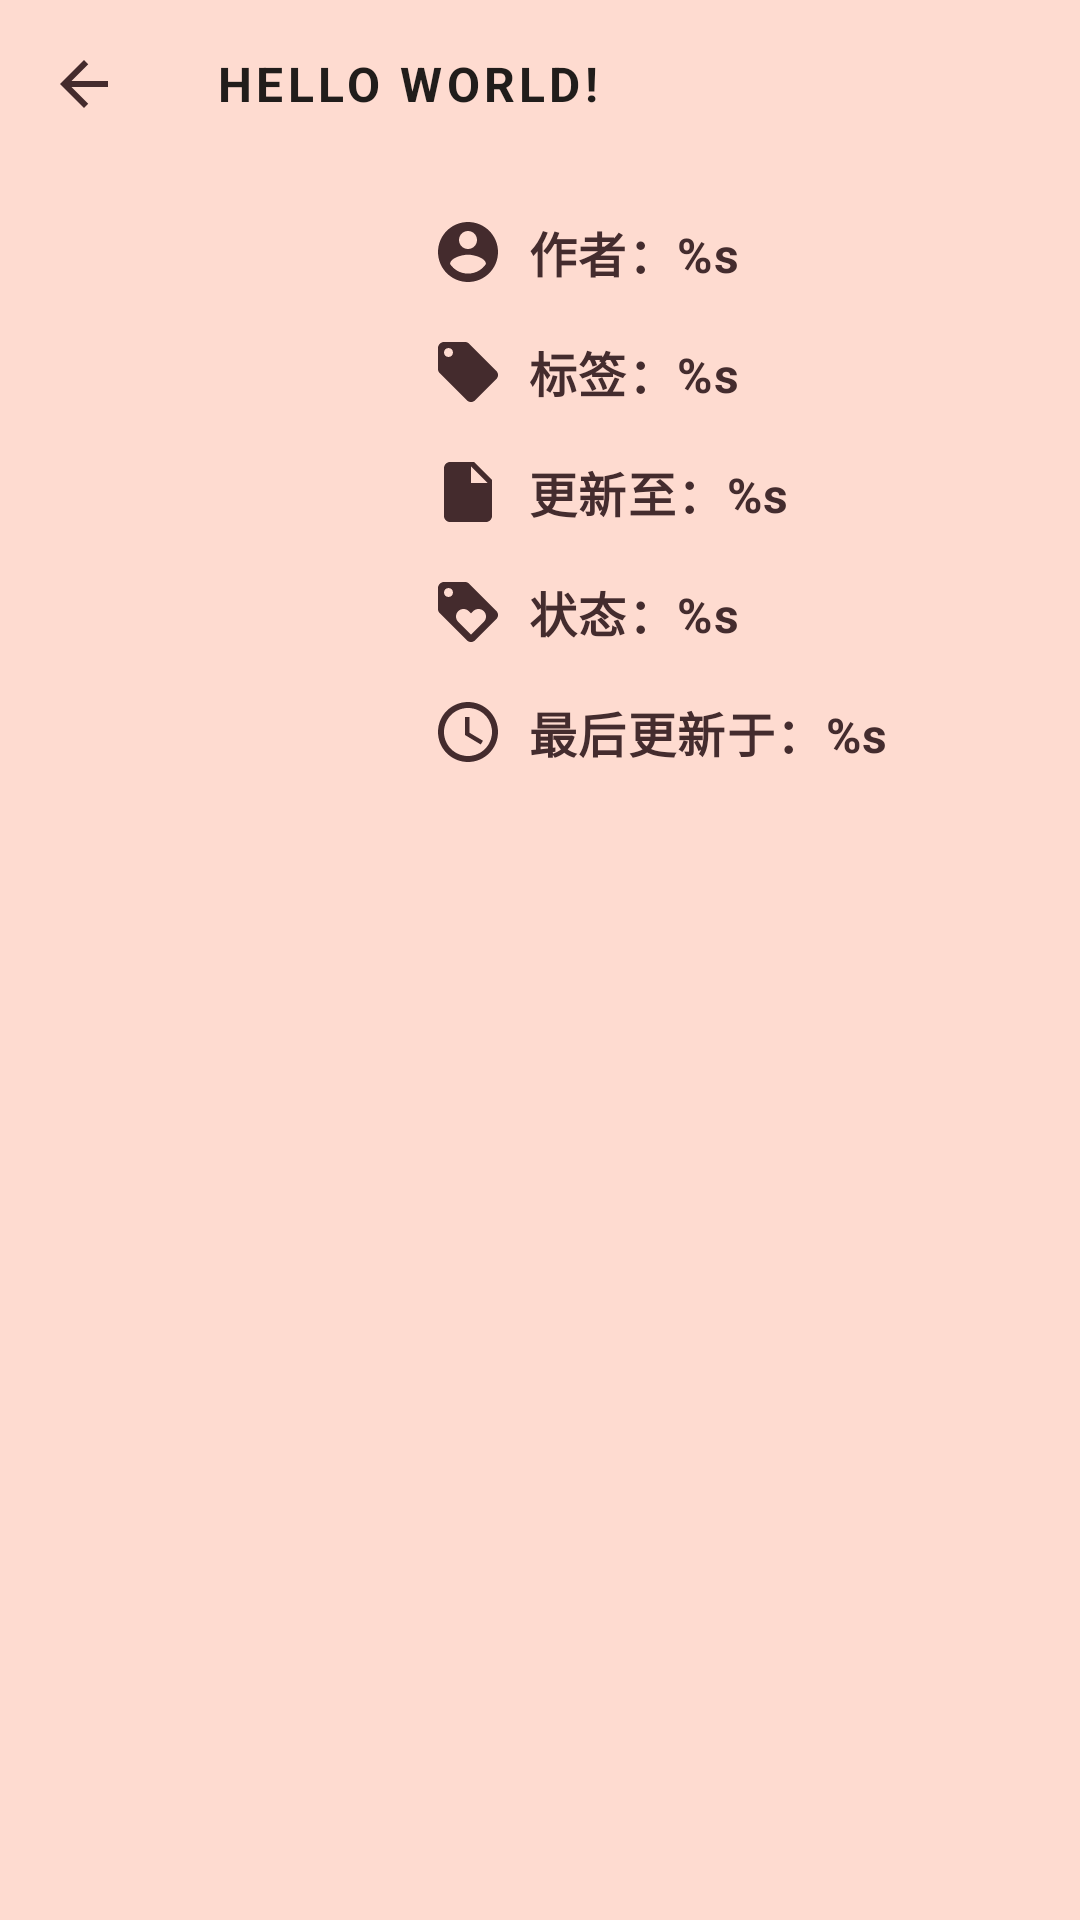

Icons on this 1080x1920 Android screen, each with the point to tap as (x=x, y=y):
latest chapter: (x=468, y=492)
time: (x=468, y=732)
